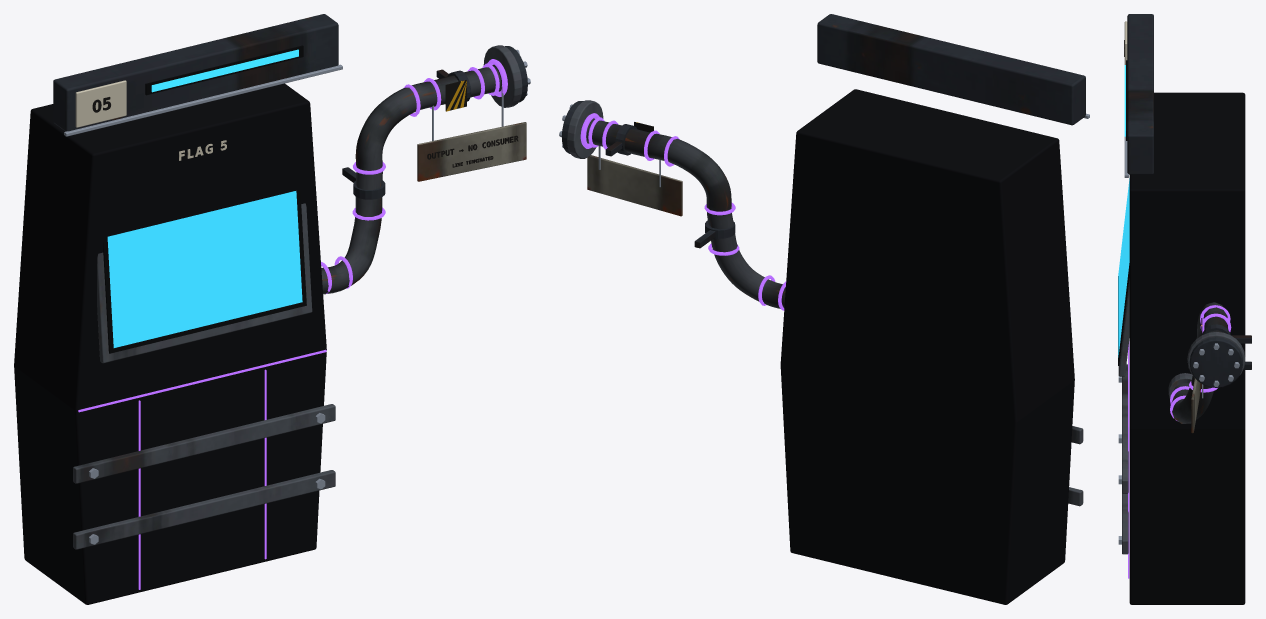
File: ch1-station-5.glb
3 views of the same model, side by side, from view 1: azimuth 30°, elevation 25°; view 2: azimuth 150°, elevation 25°; view 3: azimuth 270°, elevation 25° (orthographic). The views are drawn at different scales.
Parts seen in each view (by area): view 1: monolith, screen, header_plate, pipe, seal_bar.001, seal_bar, plaque_plate, face_frame, face_well, num_plate, header_trim, flange (+3 smaller); view 2: monolith, header_plate, pipe, plaque_plate, flange; view 3: monolith, header_plate, blind_cap, pipe, screen, seal_bar.001, face_frame, flange, seal_bar, plaque_plate, face_well, seam_v.001 (+1 smaller).
Boxes of the visible parts, x1=… form: monolith: x1=14, y1=83, x2=326, y2=604; screen: x1=107, y1=191, x2=302, y2=347; header_plate: x1=53, y1=14, x2=338, y2=131; pipe: x1=321, y1=66, x2=500, y2=294; seal_bar.001: x1=73, y1=404, x2=335, y2=483; seal_bar: x1=73, y1=470, x2=335, y2=549; plaque_plate: x1=417, y1=122, x2=526, y2=181; face_frame: x1=97, y1=203, x2=312, y2=363; face_well: x1=103, y1=192, x2=306, y2=353; num_plate: x1=75, y1=80, x2=126, y2=127; header_trim: x1=64, y1=64, x2=342, y2=136; flange: x1=483, y1=45, x2=522, y2=107; monolith: x1=780, y1=89, x2=1074, y2=604; header_plate: x1=817, y1=14, x2=1085, y2=125; pipe: x1=587, y1=120, x2=785, y2=308; plaque_plate: x1=587, y1=155, x2=682, y2=216; flange: x1=567, y1=100, x2=603, y2=158; monolith: x1=1129, y1=92, x2=1245, y2=604; header_plate: x1=1127, y1=14, x2=1153, y2=174; blind_cap: x1=1189, y1=337, x2=1242, y2=387; pipe: x1=1171, y1=302, x2=1228, y2=423; screen: x1=1118, y1=178, x2=1129, y2=357; seal_bar.001: x1=1122, y1=364, x2=1128, y2=493; face_frame: x1=1118, y1=278, x2=1129, y2=376; flange: x1=1187, y1=331, x2=1245, y2=378; seal_bar: x1=1122, y1=493, x2=1128, y2=554; plaque_plate: x1=1191, y1=378, x2=1201, y2=433; face_well: x1=1118, y1=263, x2=1129, y2=365; seam_v.001: x1=1128, y1=429, x2=1129, y2=578.
Size of the model in its own units: 2.39 by 2.38 by 0.6023.
Materials: 15 (4 with a texture image).
